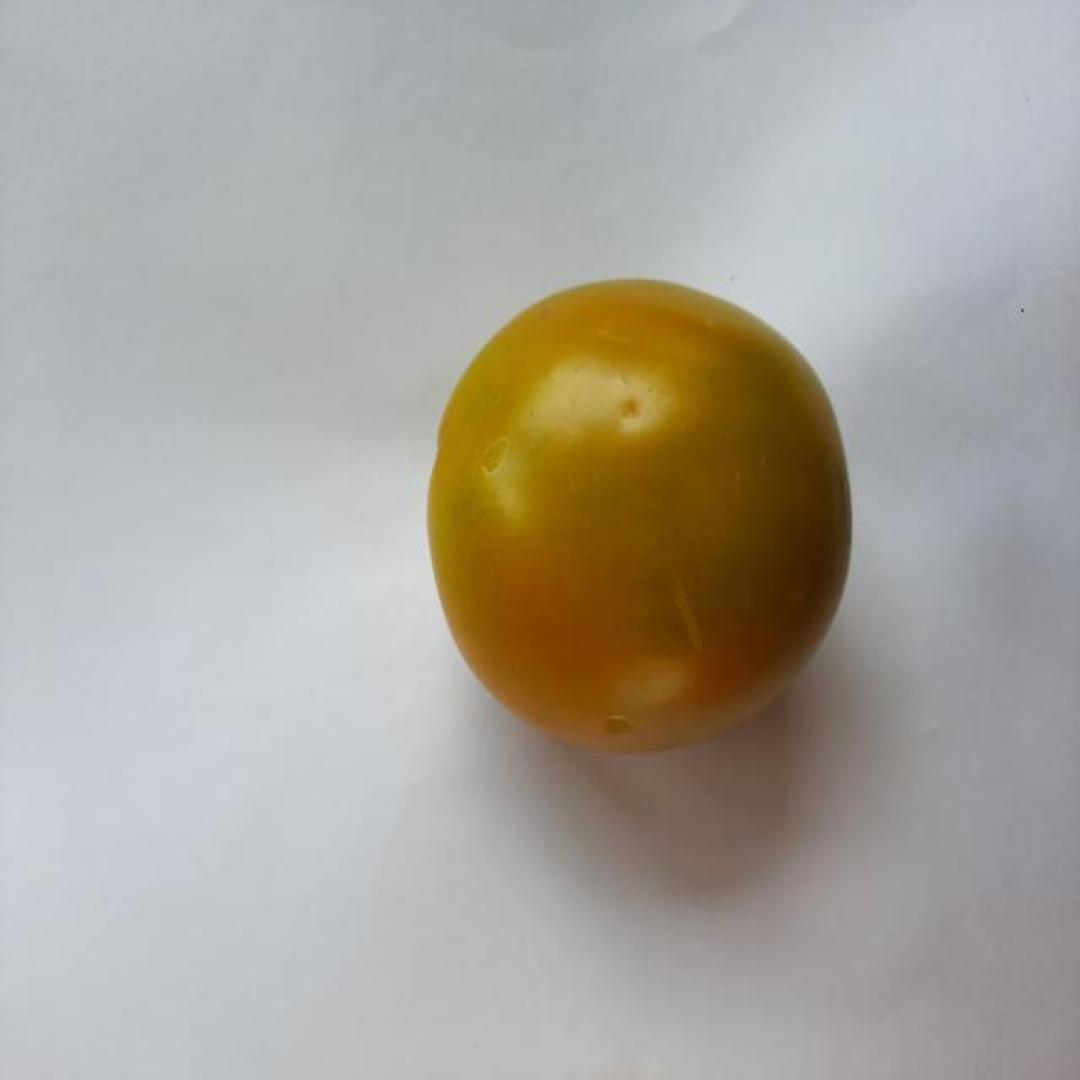setengah_matang: (417, 273, 856, 766)
